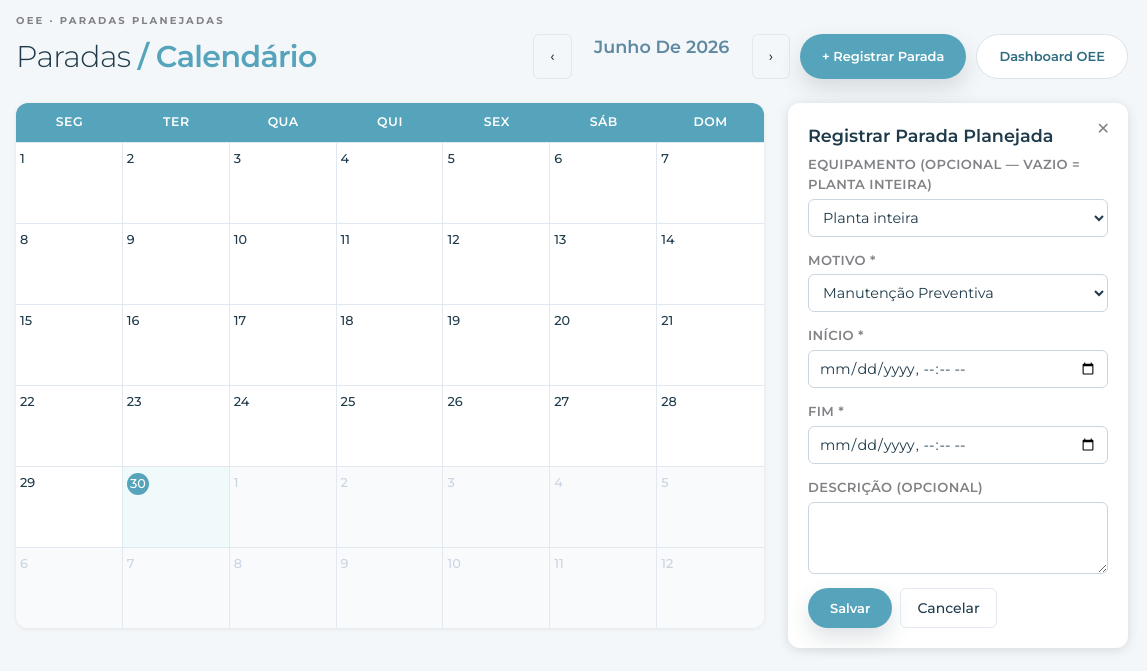
Test case: PlannedDowntimeCalendarComponent › AC-5 — create form (SUPERVISOR+) › should close form on cancel button click
This screenshot has width=1147, height=671.
Click the button with test id "btn-close-form": (1103, 129) [1093,117,1114,141]
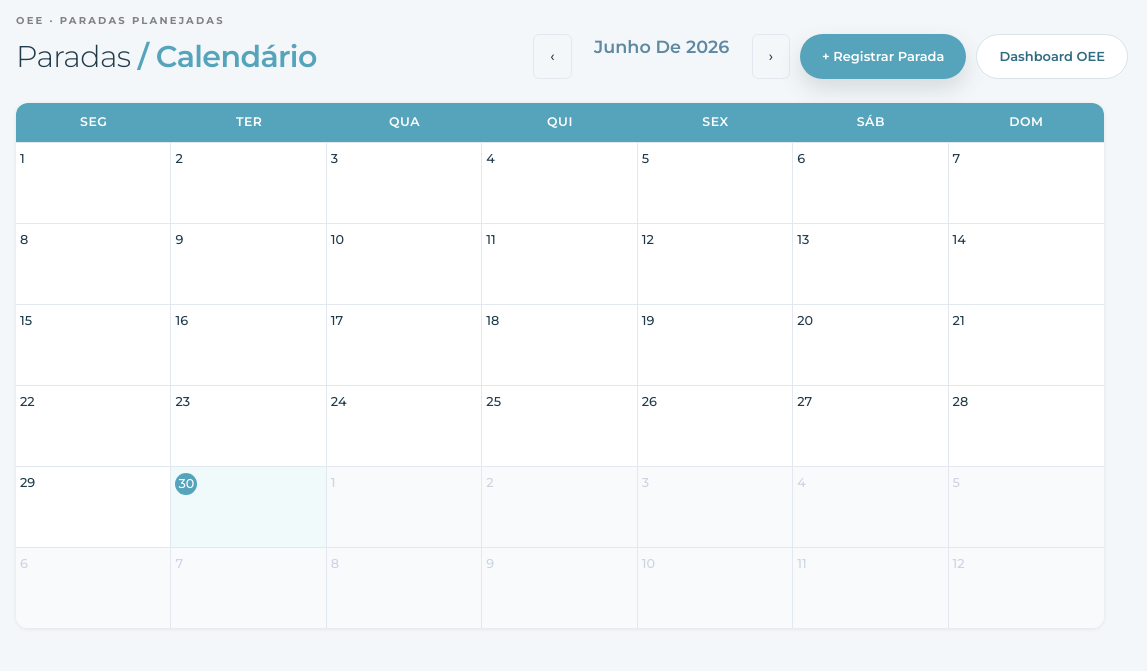
Expected: the element with test id "form-panel" is gone
